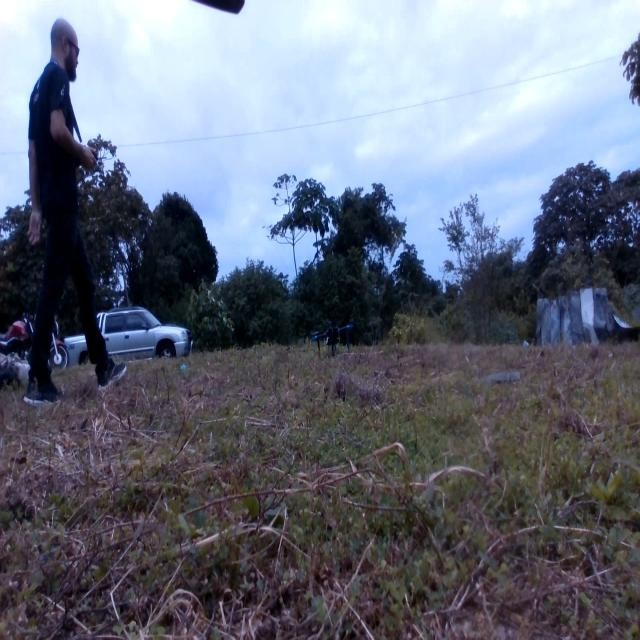-uav-: (307, 304, 363, 367)
